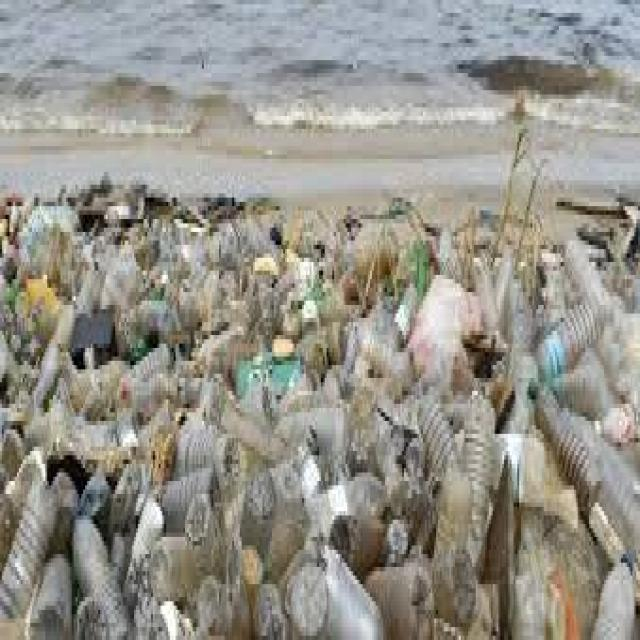garbage: (3, 170, 640, 640)
